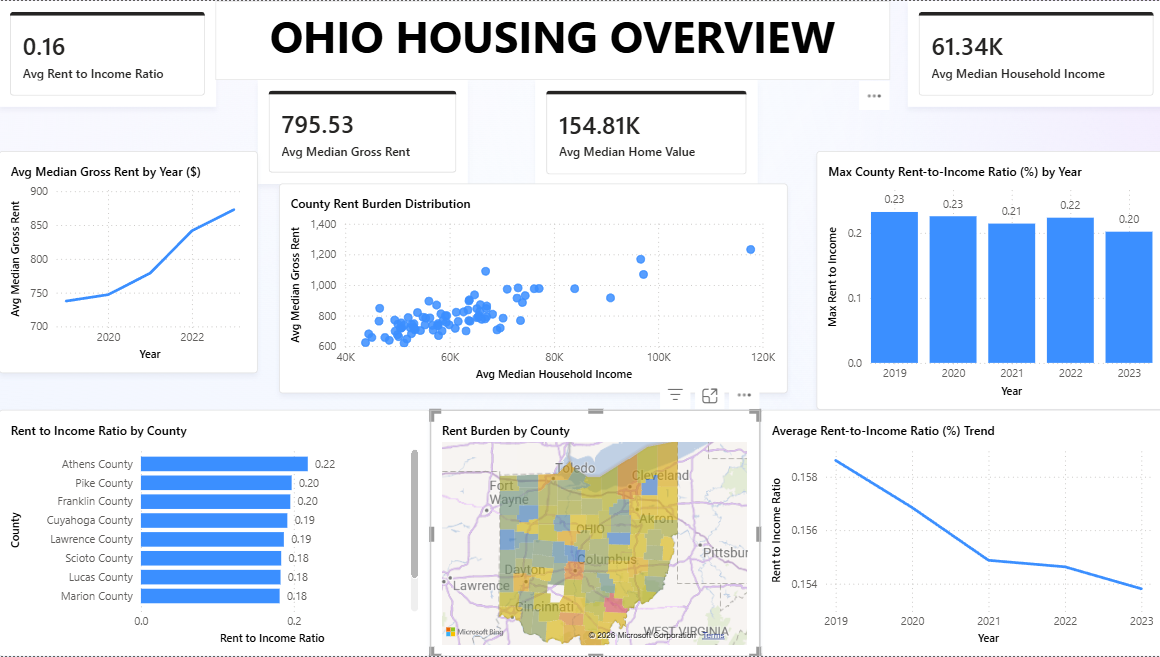

Layout of this report page (visuals, bound fields, positions):
{"tool":"powerbi","page":{"name":"Ohio Housing Overview","canvas":[1280,720],"ordinal":0},"visuals":[{"type":"cardVisual","fields":{"Data":["Fact_Housing_Affordability.Avg Median Gross Rent"]},"box":[284,86,230,114],"z":0},{"type":"cardVisual","fields":{"Data":["Fact_Housing_Affordability.Avg Median Home Value"]},"box":[588,86,244,116],"z":1000},{"type":"cardVisual","fields":{"Data":["Fact_Housing_Affordability.Avg Median Household Income"]},"box":[998,0,282,116],"z":2000},{"type":"cardVisual","fields":{"Data":["Fact_Housing_Affordability.Rent to Income Ratio"]},"box":[0,0,238,116],"z":3000},{"type":"lineChart","title":"Avg Median Gross Rent by Year ($)","fields":{"Category":["Dim_Year.Year"],"Y":["Fact_Housing_Affordability.Avg Median Gross Rent"]},"box":[0,164,284,244],"z":4000},{"type":"barChart","fields":{"Category":["Fact_Housing_Affordability.County"],"Y":["Fact_Housing_Affordability.Rent to Income Ratio"]},"box":[0,448.7,473.4,271.7],"z":5000},{"type":"clusteredColumnChart","title":"Max County Rent-to-Income Ratio (%) by Year","fields":{"Category":["Dim_Year.Year"],"Y":["Fact_Housing_Affordability.Max Rent to Income"]},"box":[898,164,382,284],"z":6000},{"type":"filledMap","title":"Rent Burden by County","fields":{"Category":["Fact_Housing_Affordability.County_State"]},"box":[473.9,448,361.5,271.9],"z":7000},{"type":"lineChart","title":"Average Rent-to-Income Ratio (%) Trend","fields":{"Category":["Dim_Year.Year"],"Y":["Fact_Housing_Affordability.Rent to Income Ratio"]},"box":[835.7,448.7,444.6,271.7],"z":8000},{"type":"scatterChart","title":"County Rent Burden Distribution","fields":{"Category":["Fact_Housing_Affordability.County"],"X":["Fact_Housing_Affordability.Avg Median Household Income"],"Y":["Fact_Housing_Affordability.Avg Median Gross Rent"]},"box":[308,200,558,230],"z":9000},{"type":"textbox","box":[238,0,740,86],"z":10000}]}

Visuals, with their boxes in screenshot pixels (x1, y1, x2, y2), scaled from the page's 1280x720 canvas onto the 1160x657 screenshot:
cardVisual - Fact_Housing_Affordability.Avg Median Gross Rent: {"left": 257, "top": 78, "right": 466, "bottom": 182}
cardVisual - Fact_Housing_Affordability.Avg Median Home Value: {"left": 533, "top": 78, "right": 754, "bottom": 184}
cardVisual - Fact_Housing_Affordability.Avg Median Household Income: {"left": 904, "top": 0, "right": 1159, "bottom": 106}
cardVisual - Fact_Housing_Affordability.Rent to Income Ratio: {"left": 0, "top": 0, "right": 216, "bottom": 106}
"Avg Median Gross Rent by Year ($)" lineChart: {"left": 0, "top": 150, "right": 257, "bottom": 372}
barChart - Fact_Housing_Affordability.County x Fact_Housing_Affordability.Rent to Income Ratio: {"left": 0, "top": 409, "right": 429, "bottom": 656}
"Max County Rent-to-Income Ratio (%) by Year" clusteredColumnChart: {"left": 814, "top": 150, "right": 1159, "bottom": 409}
"Rent Burden by County" filledMap: {"left": 429, "top": 409, "right": 757, "bottom": 656}
"Average Rent-to-Income Ratio (%) Trend" lineChart: {"left": 757, "top": 409, "right": 1159, "bottom": 656}
"County Rent Burden Distribution" scatterChart: {"left": 279, "top": 182, "right": 785, "bottom": 392}
textbox: {"left": 216, "top": 0, "right": 886, "bottom": 78}
